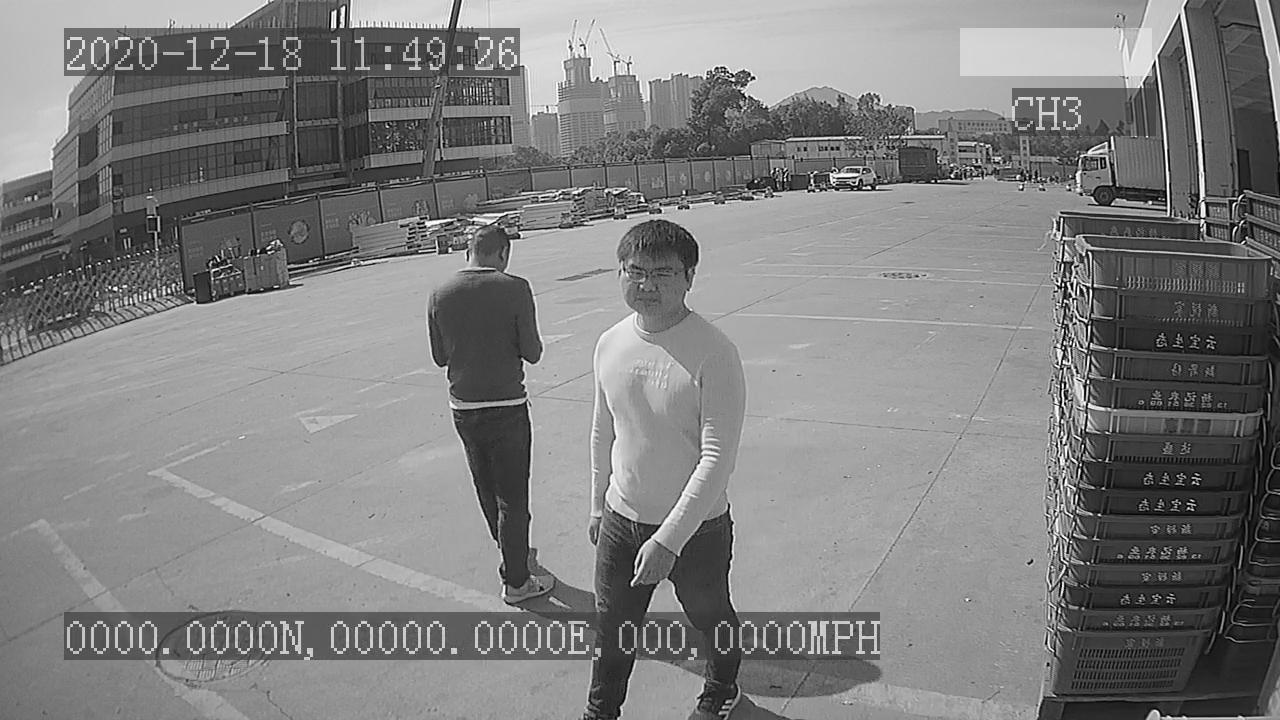person: (422, 220, 560, 610)
